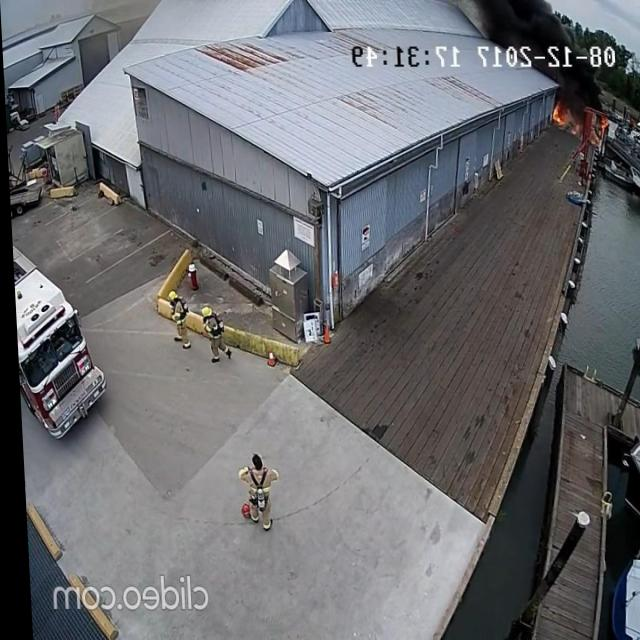fire: (548, 97, 580, 133), (588, 113, 611, 146)
